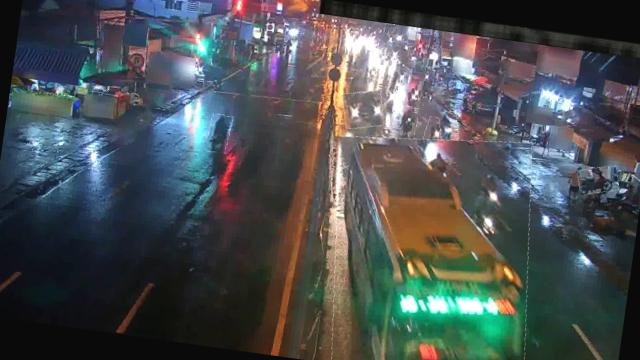Bike: (575, 162, 621, 197), (473, 214, 504, 253), (205, 112, 232, 154), (482, 184, 512, 219), (420, 116, 448, 153), (436, 148, 462, 184), (436, 109, 460, 142), (396, 106, 418, 135)
Bus: (313, 122, 549, 360)
Car: (340, 87, 386, 131)
